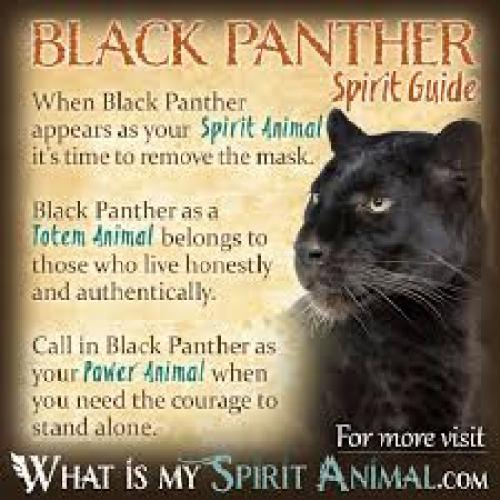panther-endangered: (285, 107, 489, 452)
